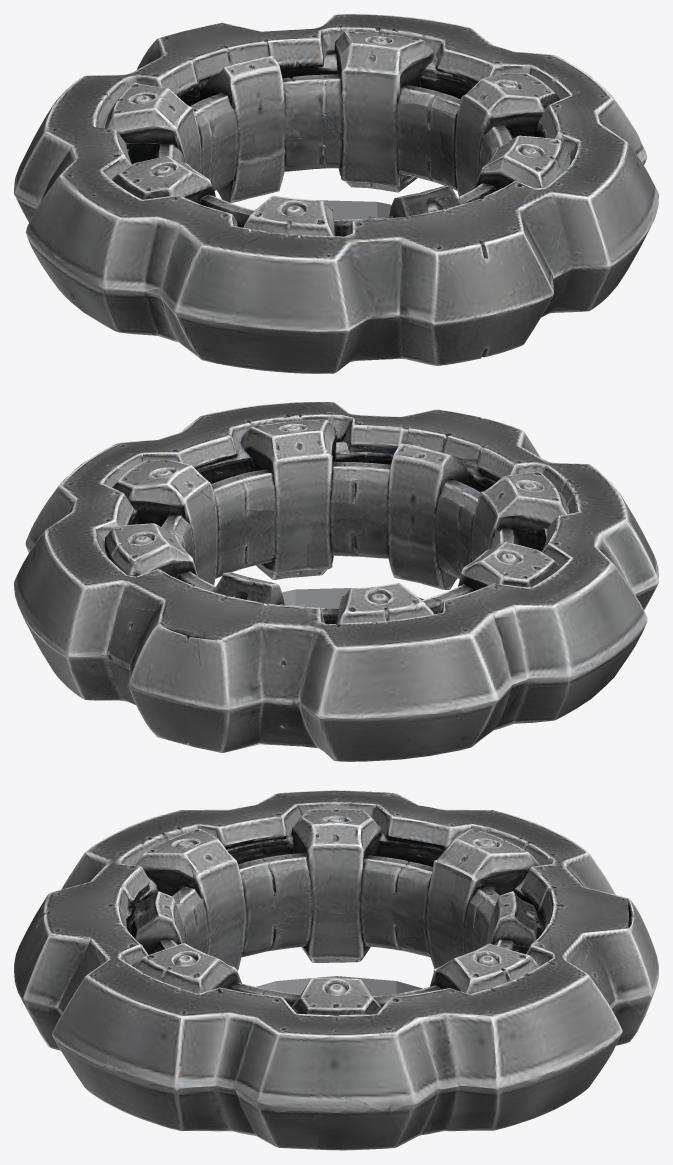
File: anvil.glb
3 renders of one model, top to bottom at view 1: azimuth 30°, elevation 25°; view 2: azimuth 150°, elevation 25°; view 3: azimuth 270°, elevation 25°, orthographic.
Visible parts, largest first — view 1: mesh_node; view 2: mesh_node; view 3: mesh_node.
Boxes of the visible parts, box(x1,y1,x2,y2) form: mesh_node: box(14, 14, 658, 373); mesh_node: box(14, 402, 658, 761); mesh_node: box(14, 790, 658, 1150).
Size of the model in its own units: 45.09 by 13.12 by 45.09.
Materials: 2 (1 with a texture image).
